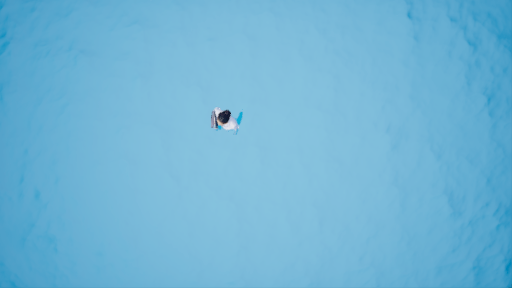person: (206, 106, 248, 134)
